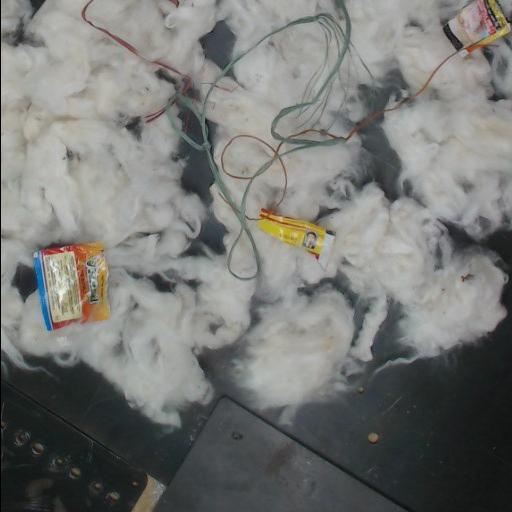conveyor belt: (288, 234, 512, 511)
cotton: (1, 0, 512, 430)
packet: (34, 243, 107, 330), (257, 209, 334, 267), (443, 0, 509, 55)
thread: (81, 0, 352, 282), (404, 22, 507, 102), (346, 106, 399, 137)
